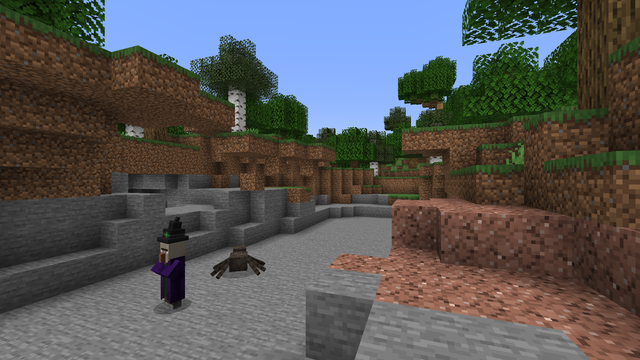araignees: (212, 242, 263, 278)
sorcieres: (155, 235, 188, 312)
